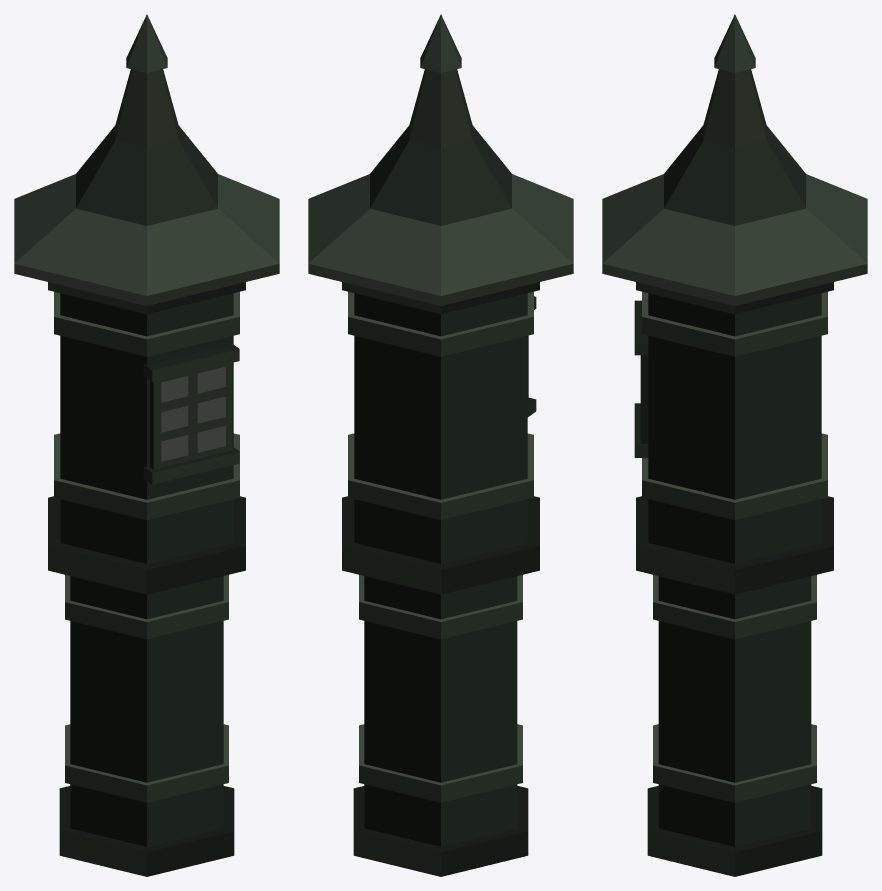
File: SF_Bld_HouseAdd_Tower_01.glb
3 views of the same model, side by side, from view 1: azimuth 30°, elevation 25°; view 2: azimuth 150°, elevation 25°; view 3: azimuth 270°, elevation 25° (orthographic).
Visible parts, largest first — view 1: SF_Bld_HouseAdd_Tower_01; view 2: SF_Bld_HouseAdd_Tower_01; view 3: SF_Bld_HouseAdd_Tower_01.
Boxes of the visible parts, x1,y1,x2,y2 form: SF_Bld_HouseAdd_Tower_01: [14, 14, 279, 876]; SF_Bld_HouseAdd_Tower_01: [308, 14, 573, 876]; SF_Bld_HouseAdd_Tower_01: [602, 14, 867, 876].
Size of the model in its own units: 0.045 by 0.133 by 0.039.
Materials: 1 (1 with a texture image).
